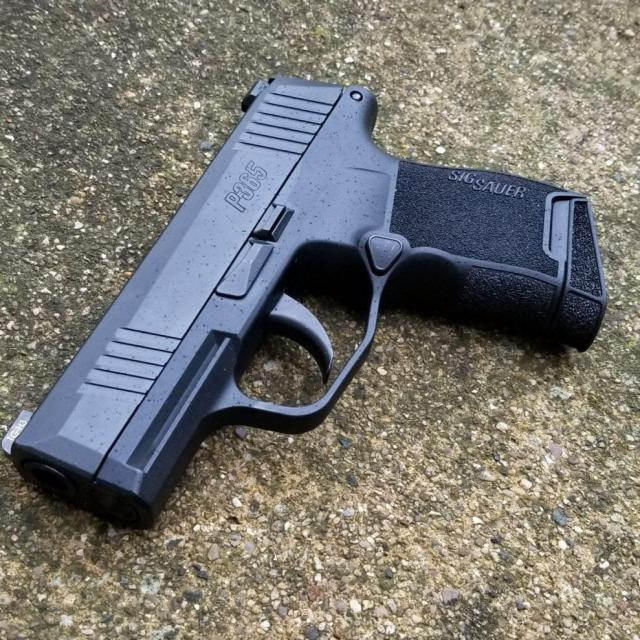HandGun: (1, 76, 608, 534)
